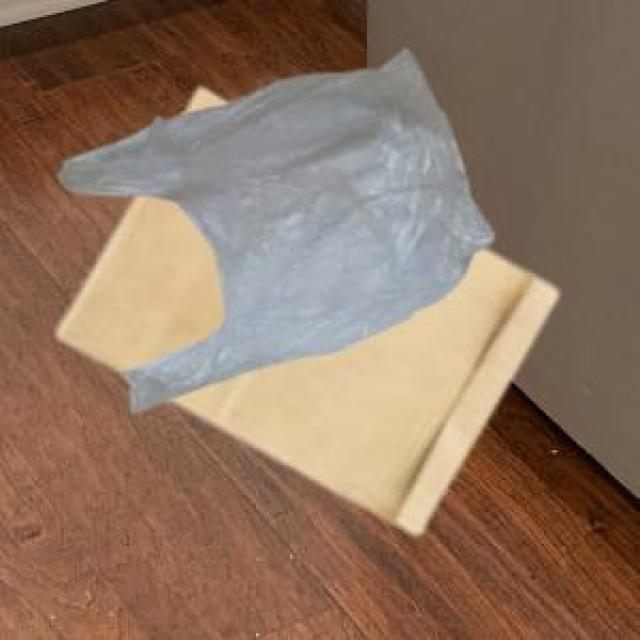paper: (53, 85, 553, 529)
